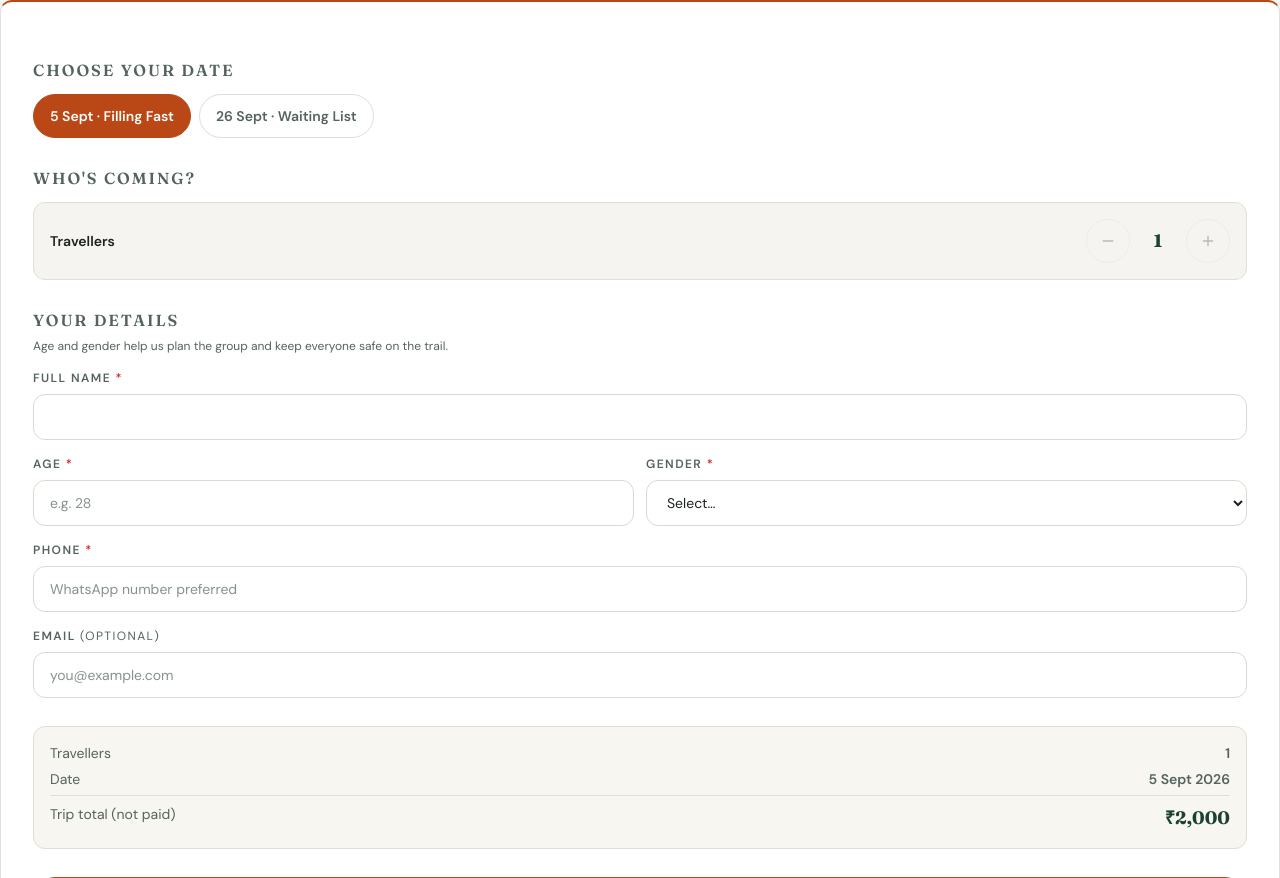
Test: BookingForm › displays the selected Admin status while enforcing independent capacity
Expected: the button named "More people" is disabled, x1=1186 y1=219 x2=1230 y2=263
Click the button "26 Sept · Waiting List".
click(286, 116)  # box x1=199 y1=94 x2=374 y2=138
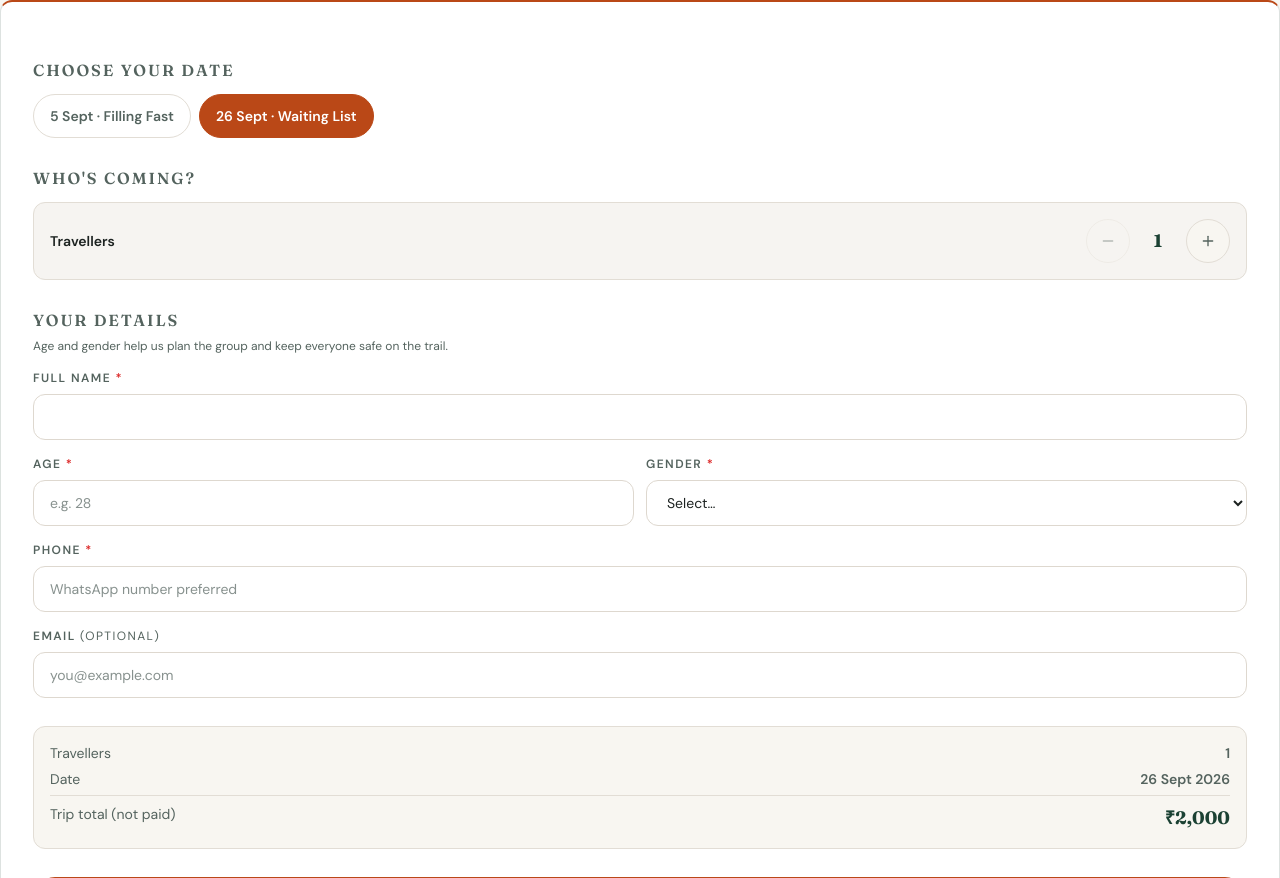
Expected: the button named "More people" is enabled
Click the button named "More people".
click(1208, 241)  # box x1=1186 y1=219 x2=1230 y2=263
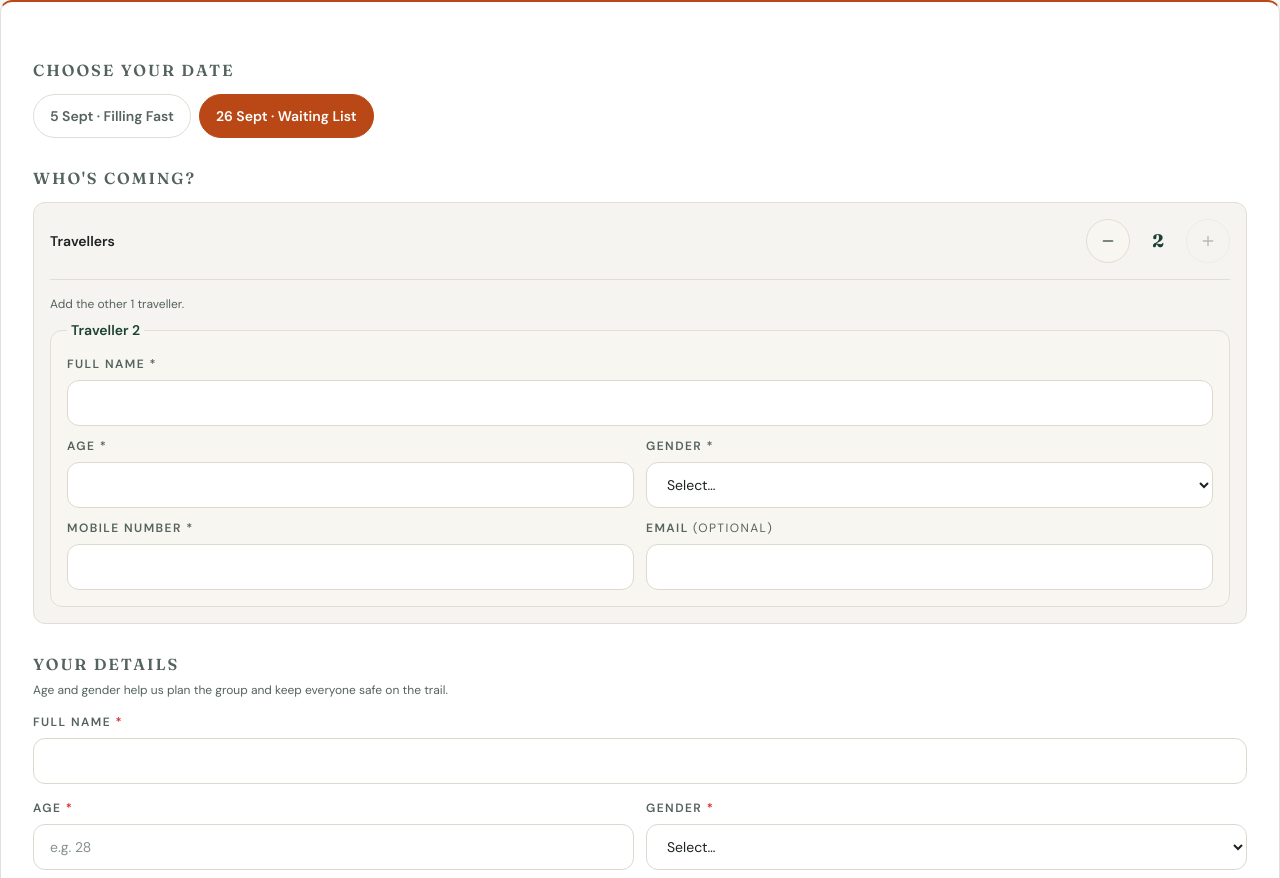
Expected: the button named "More people" is disabled, x1=1186 y1=219 x2=1230 y2=263
